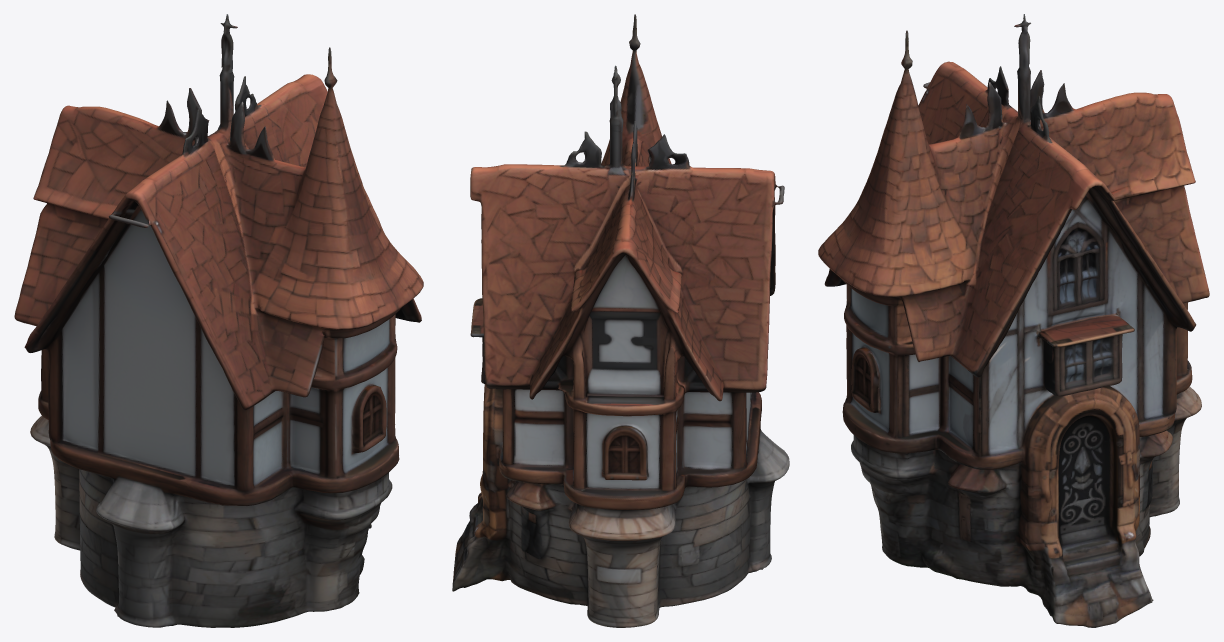
The model's file is fantasy_house_lev2.glb.
The picture shows the model from 3 angles, left to right: view 1: azimuth 30°, elevation 25°; view 2: azimuth 150°, elevation 25°; view 3: azimuth 270°, elevation 25°; orthographic projection. The views are drawn at different scales.
Visible parts, largest first — view 1: old_castle_1.001; view 2: old_castle_1.001; view 3: old_castle_1.001.
Boxes of the visible parts, x1,y1,x2,y2 form: old_castle_1.001: [14, 14, 423, 627]; old_castle_1.001: [452, 14, 789, 627]; old_castle_1.001: [818, 14, 1209, 627].
Bounding box in the file's own units: 32.66 × 52.49 × 33.82.
Materials: 1 (1 with a texture image).
